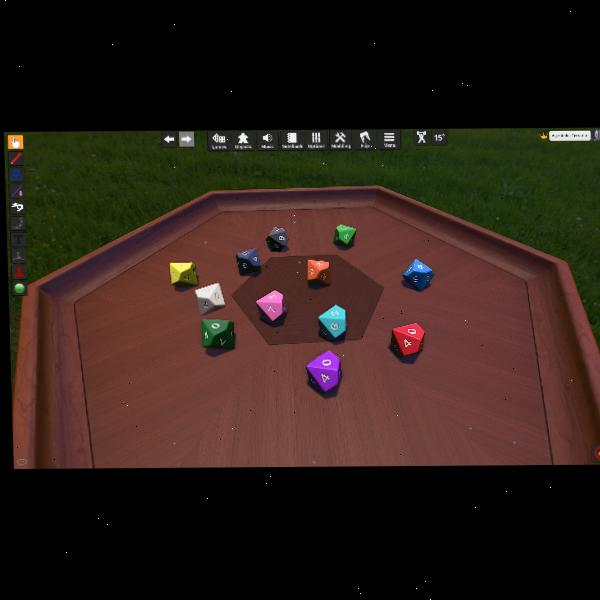d10: (303, 348, 347, 396), (403, 257, 436, 291), (391, 323, 424, 357), (255, 290, 287, 324), (194, 282, 226, 315), (202, 318, 235, 349), (317, 304, 345, 339), (169, 261, 198, 286), (236, 248, 262, 275), (265, 226, 289, 252), (306, 259, 329, 285), (333, 223, 355, 248)
